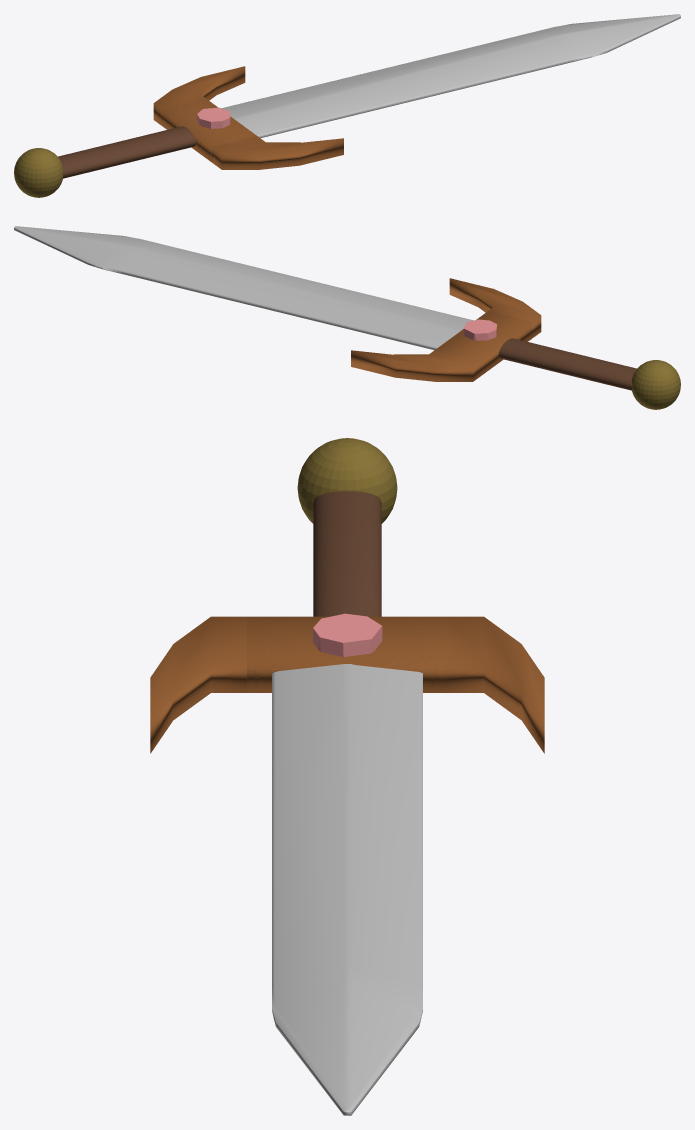
Rendered from Funny Sword.fbx.
3 views of the same model, one above another, from view 1: azimuth 30°, elevation 25°; view 2: azimuth 150°, elevation 25°; view 3: azimuth 270°, elevation 25° (orthographic). The views are drawn at different scales.
Visible parts, largest first — view 1: Cube.001, Cube.002, Cylinder, Sphere, Cylinder.001; view 2: Cube.001, Cube.002, Cylinder, Sphere, Cylinder.001; view 3: Cube.001, Cube.002, Cylinder, Sphere, Cylinder.001.
Part boxes in pixels (left/top/right/bottom): Cube.001: left=222, top=14, right=680, bottom=138; Cube.002: left=153, top=66, right=343, bottom=169; Cylinder: left=58, top=126, right=196, bottom=178; Sphere: left=14, top=148, right=63, bottom=197; Cylinder.001: left=197, top=107, right=230, bottom=128; Cube.001: left=14, top=226, right=473, bottom=350; Cube.002: left=351, top=278, right=541, bottom=381; Cylinder: left=498, top=338, right=636, bottom=390; Sphere: left=631, top=360, right=680, bottom=409; Cylinder.001: left=463, top=319, right=497, bottom=340; Cube.001: left=272, top=664, right=422, bottom=1115; Cube.002: left=150, top=616, right=544, bottom=753; Cylinder: left=313, top=491, right=381, bottom=616; Sphere: left=297, top=438, right=397, bottom=523; Cylinder.001: left=313, top=613, right=382, bottom=656.
Size of the model in its own units: 2031 by 133 by 523.
